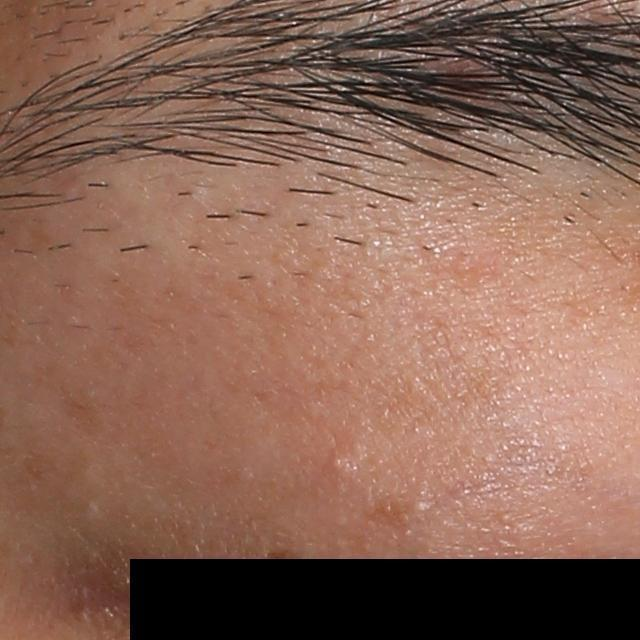melasma: (61, 376, 102, 435), (367, 497, 414, 531)
